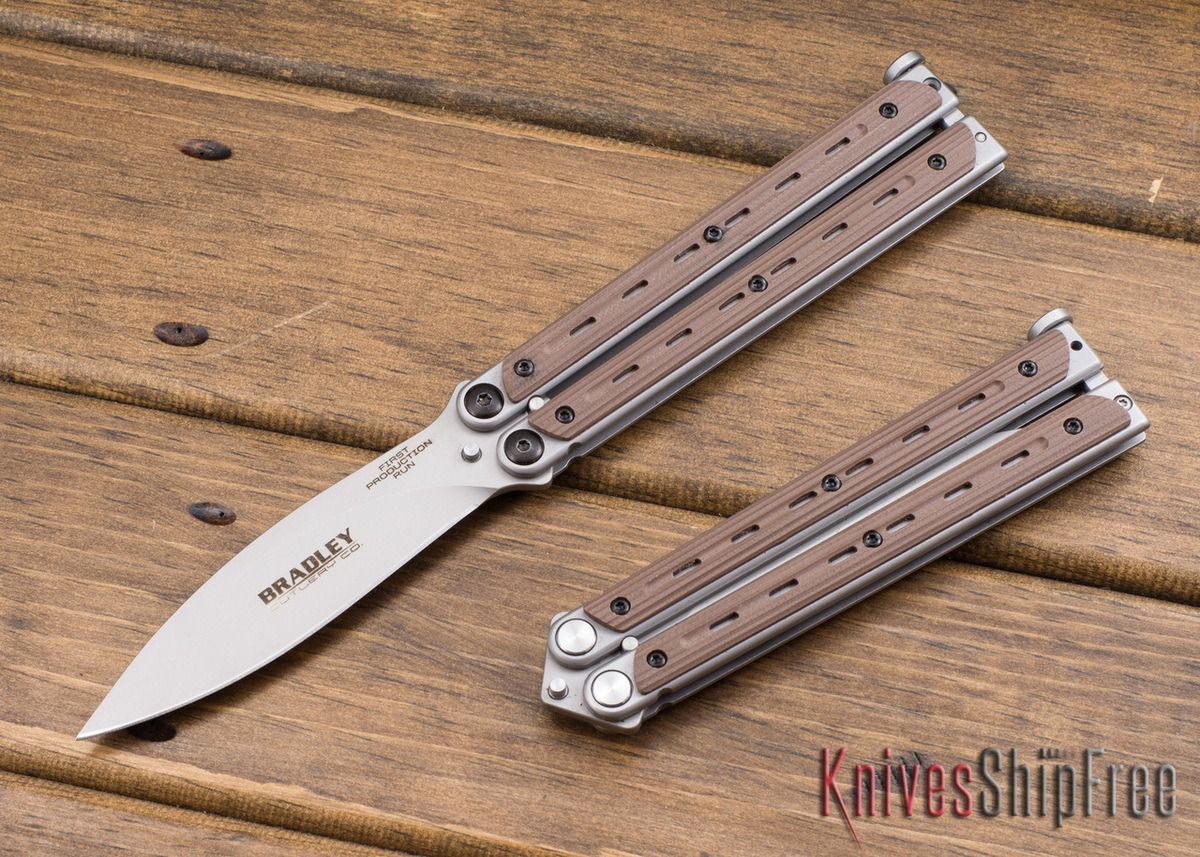knife: (76, 42, 1004, 741), (535, 303, 1157, 745)
